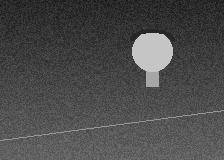no_helmet: (132, 29, 172, 76)
